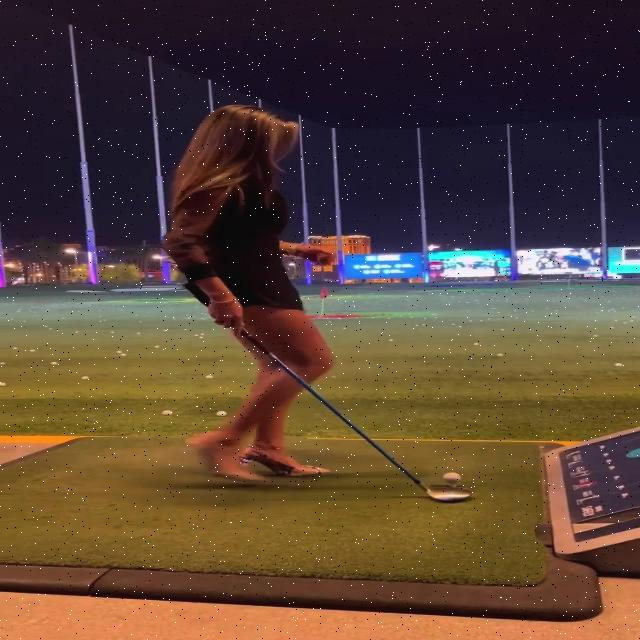golf ball: (441, 469, 462, 480)
golf club-handle: (180, 282, 474, 508)
golf club-head: (423, 488, 467, 503)
